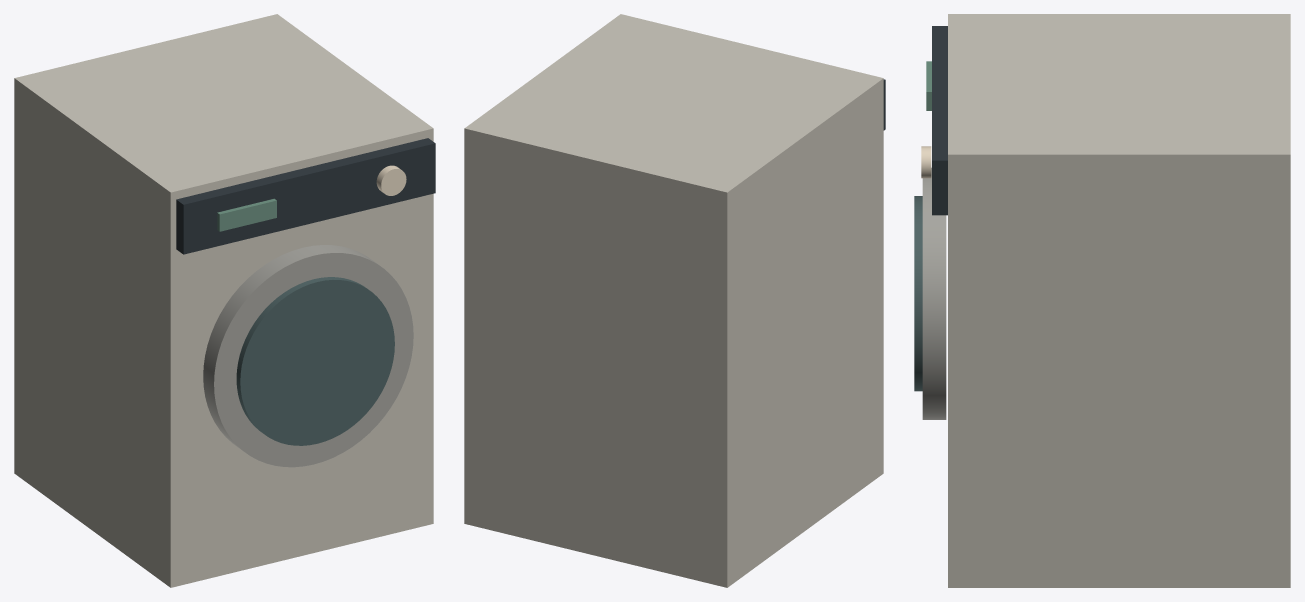
The model's file is tumble_dryer.glb.
The picture shows the model from 3 angles, left to right: view 1: azimuth 30°, elevation 25°; view 2: azimuth 150°, elevation 25°; view 3: azimuth 270°, elevation 25°; orthographic projection. The views are drawn at different scales.
Visible parts, largest first — view 1: Appliance case.001, Door glass.001, Door surround.001, Controls.001, Readout.001, Dial.001; view 2: Appliance case.001; view 3: Appliance case.001, Door surround.001, Controls.001, Door glass.001.
Part boxes in pixels (x1,y1,x2,y2): Appliance case.001: [14, 14, 433, 587]; Door glass.001: [236, 277, 394, 445]; Door surround.001: [203, 245, 413, 467]; Controls.001: [176, 138, 435, 254]; Readout.001: [217, 198, 276, 231]; Dial.001: [376, 165, 406, 195]; Appliance case.001: [464, 14, 883, 587]; Appliance case.001: [948, 14, 1290, 587]; Door surround.001: [922, 167, 946, 419]; Controls.001: [932, 26, 947, 215]; Door glass.001: [914, 196, 922, 391].
Bounding box in the file's own units: 0.602 × 0.865 × 0.681.
